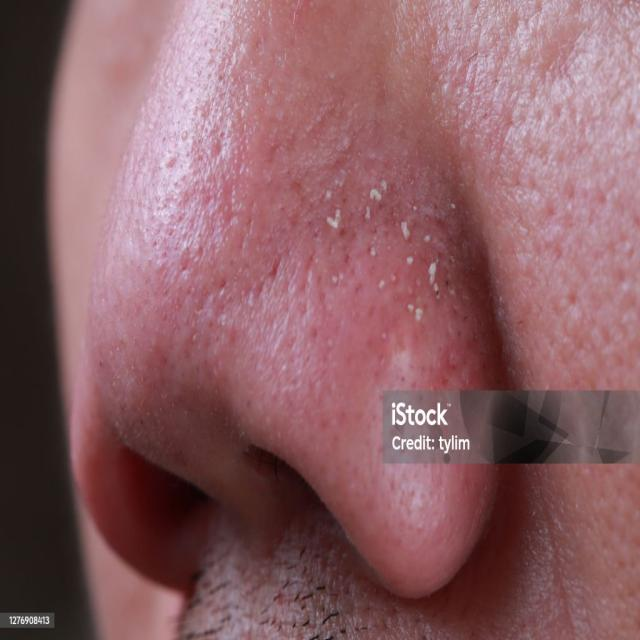whitehead: (313, 128, 502, 367)
